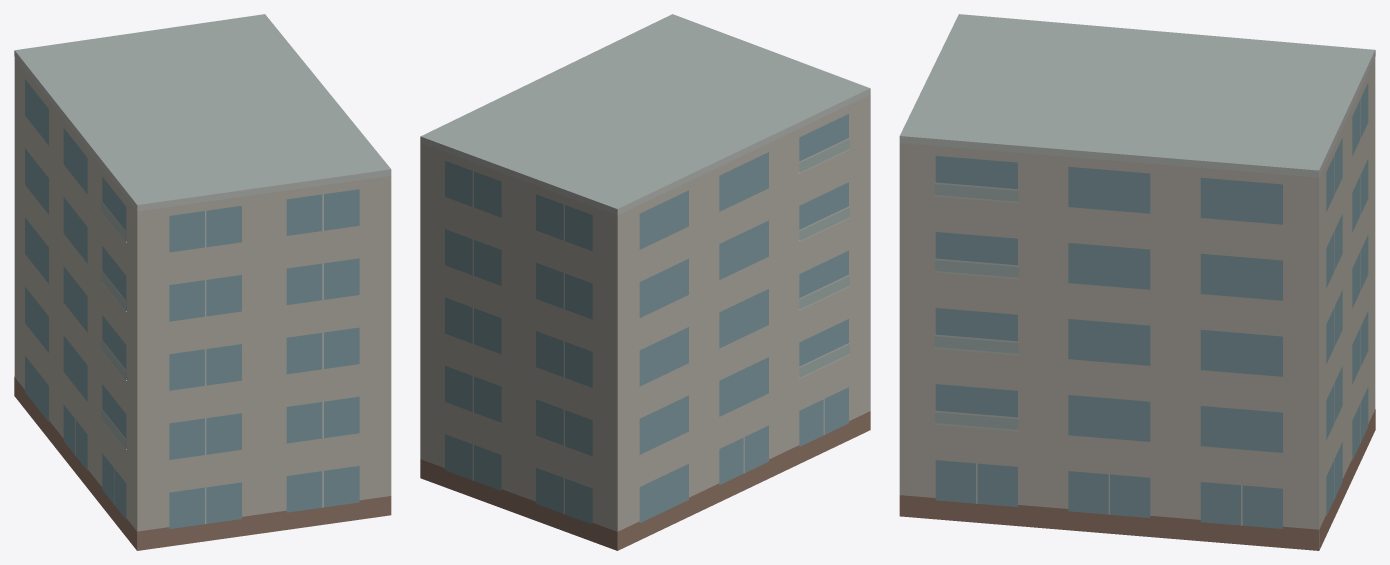
Rendered from survey-upis-32893389.glb.
The picture shows the model from 3 angles, left to right: view 1: azimuth 30°, elevation 25°; view 2: azimuth 150°, elevation 25°; view 3: azimuth 270°, elevation 25°; orthographic projection. The views are drawn at different scales.
Parts seen in each view (by area): view 1: survey-upis-32893389.tmp; view 2: survey-upis-32893389.tmp; view 3: survey-upis-32893389.tmp.
Part boxes in pixels (bbox=[...]): survey-upis-32893389.tmp: bbox=[14, 14, 391, 550]; survey-upis-32893389.tmp: bbox=[420, 14, 870, 550]; survey-upis-32893389.tmp: bbox=[899, 14, 1375, 550].
Bounding box in the file's own units: 11.66 × 13.2 × 14.97.
